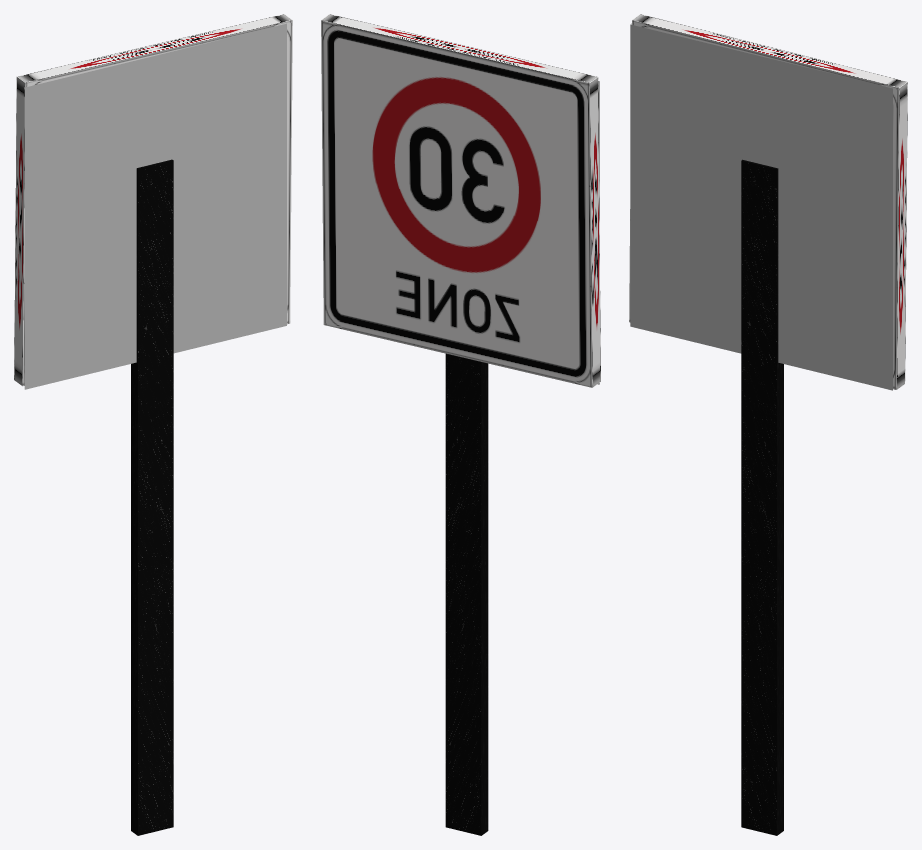
File: SpeedLimit.obj
3 views of the same model, side by side, from view 1: azimuth 30°, elevation 25°; view 2: azimuth 150°, elevation 25°; view 3: azimuth 330°, elevation 25° (orthographic).
Parts seen in each view (by area): view 1: Plane, STOPALLM_1, Cube_Cube.001; view 2: Cube_Cube.001, STOPALLM_1; view 3: Plane, STOPALLM_1, Cube_Cube.001.
Boxes of the visible parts, left/top/right/bottom form: Plane: left=24, top=23, right=286, bottom=389; STOPALLM_1: left=131, top=159, right=173, bottom=835; Cube_Cube.001: left=14, top=14, right=292, bottom=386; Cube_Cube.001: left=321, top=14, right=600, bottom=387; STOPALLM_1: left=445, top=353, right=488, bottom=835; Plane: left=630, top=24, right=892, bottom=390; STOPALLM_1: left=741, top=159, right=783, bottom=835; Cube_Cube.001: left=629, top=14, right=907, bottom=389.
Bounding box in the file's own units: 4.12 × 11.34 × 0.2659.
Materials: 3 (2 with a texture image).
